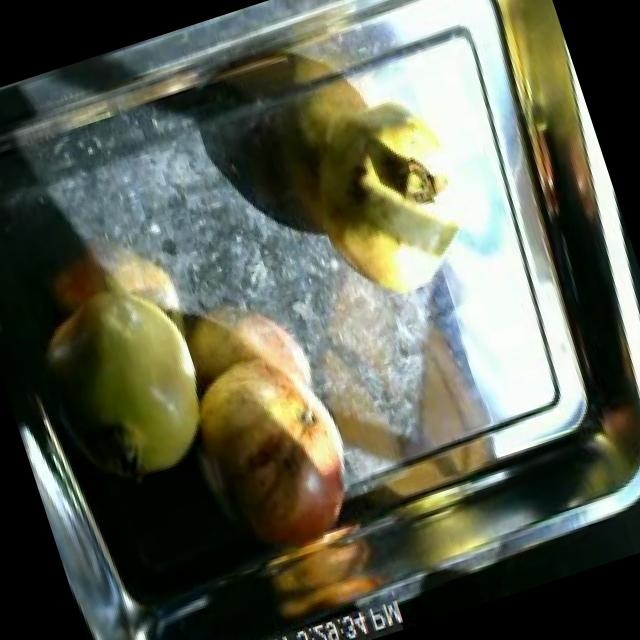fruit: (2, 241, 258, 520), (157, 324, 382, 581), (286, 88, 501, 324)
